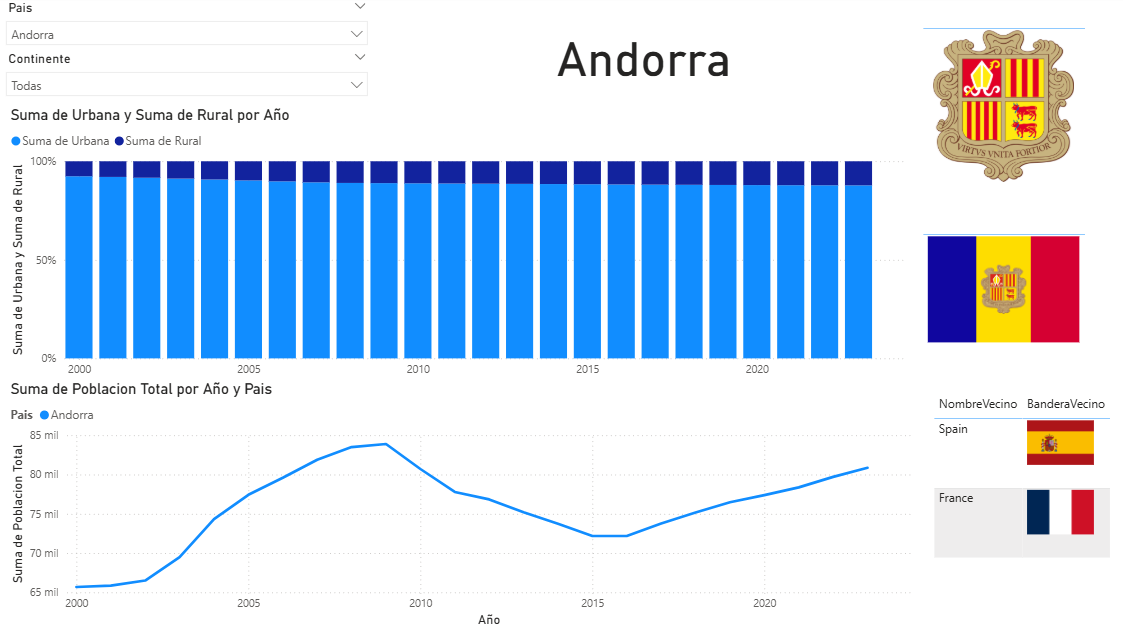

Layout of this report page (visuals, bound fields, positions):
{"tool":"powerbi","page":{"name":"Pais","canvas":[1280,720],"ordinal":0},"visuals":[{"type":"hundredPercentStackedColumnChart","fields":{"Y":["Sum(Population.Urbana)","Sum(Population.Rural)"],"Category":["Population.date"]},"box":[10.1,123.4,1015.2,326.5],"z":0},{"type":"tableEx","fields":{"Values":["countries.country_images.flag_png"]},"box":[1033.2,235.6,246.8,215.4],"z":2000},{"type":"card","fields":{"Values":["Min(countries.country_names.common_name)"]},"box":[426.3,4.5,599.1,118.9],"z":3000},{"type":"slicer","fields":{"Values":["countries.country_names.common_name"]},"box":[0,0,426.3,57.2],"z":4000},{"type":"lineChart","fields":{"Category":["Population.date"],"Series":["countries.country_names.common_name"],"Y":["Sum(Population.Poblacion)"]},"box":[10.1,430.8,1023.1,281.6],"z":5000},{"type":"tableEx","fields":{"Values":["country_borders.NombreVecino","country_borders.BanderaVecino"]},"box":[1045.5,442,234.5,270.4],"z":6000},{"type":"slicer","fields":{"Values":["countries.region"]},"box":[0,57.2,426.3,62.8],"z":6001},{"type":"tableEx","fields":{"Values":["countries.country_images.coa_png"]},"box":[1033.2,4.5,234.5,216.5],"z":6002}]}

Visuals, with their boxes in screenshot pixels (x1, y1, x2, y2), scaled from the page's 1280x720 canvas onto the 1123x629 screenshot:
hundredPercentStackedColumnChart - Sum(Population.Urbana) x Sum(Population.Rural): l=9, t=108, r=900, b=393
tableEx - countries.country_images.flag_png: l=906, t=206, r=1122, b=394
card - Min(countries.country_names.common_name): l=374, t=4, r=900, b=108
slicer - countries.country_names.common_name: l=0, t=0, r=374, b=50
lineChart - Population.date x countries.country_names.common_name: l=9, t=376, r=906, b=622
tableEx - country_borders.NombreVecino x country_borders.BanderaVecino: l=917, t=386, r=1122, b=622
slicer - countries.region: l=0, t=50, r=374, b=105
tableEx - countries.country_images.coa_png: l=906, t=4, r=1112, b=193
